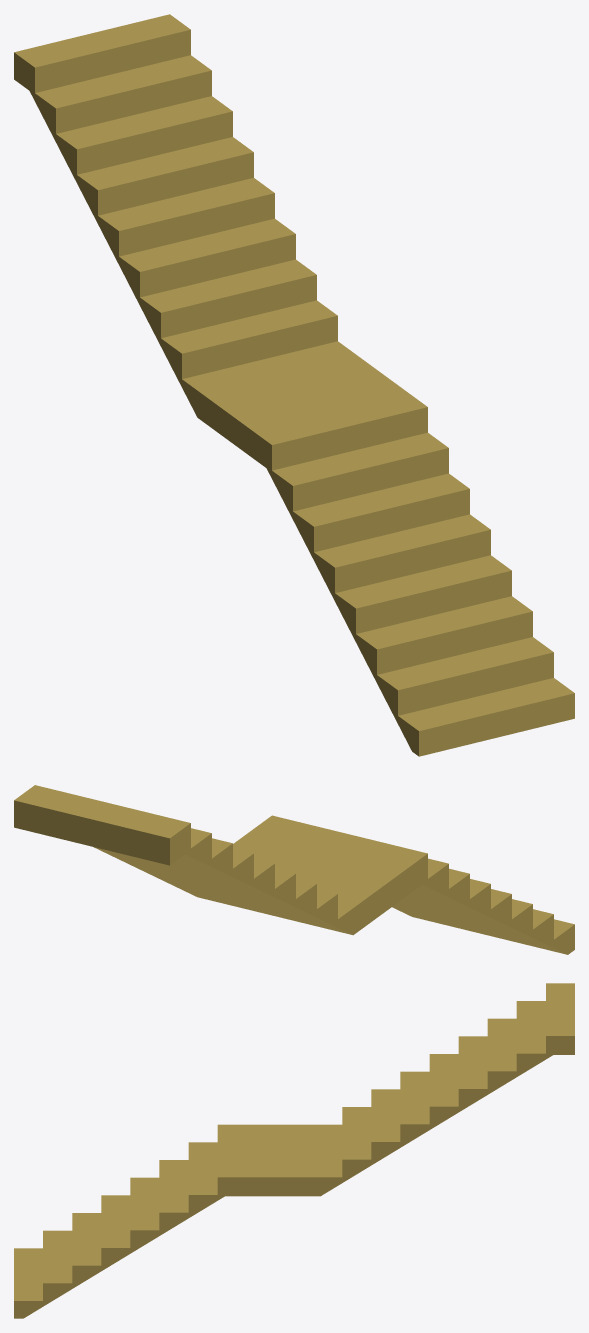
Rendered from arch_stair_landing_f300.glb.
3 renders of one model, top to bottom at view 1: azimuth 30°, elevation 25°; view 2: azimuth 150°, elevation 25°; view 3: azimuth 270°, elevation 25°, orthographic. The views are drawn at different scales.
Parts seen in each view (by area): view 1: Stair; view 2: Stair; view 3: Stair.
Boxes of the visible parts, bbox=[...] form: Stair: bbox=[14, 14, 574, 756]; Stair: bbox=[14, 785, 574, 954]; Stair: bbox=[14, 983, 574, 1318].
Size of what is drawn, in the model's own units: 1.2 by 3 by 5.4.
